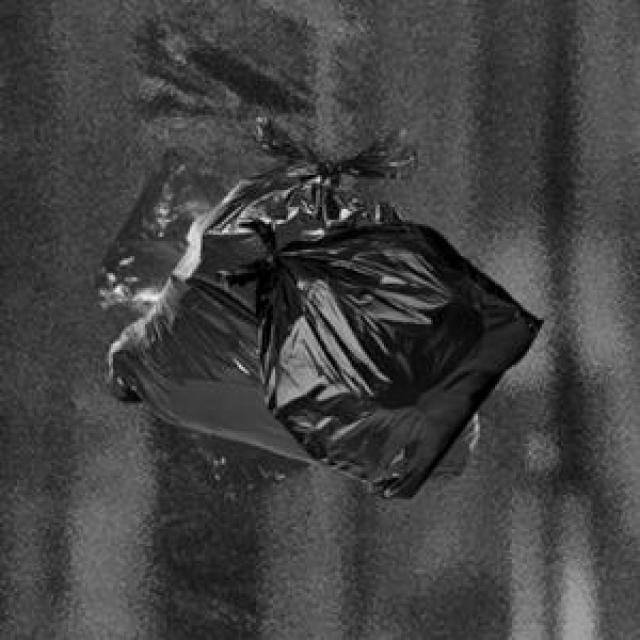miscellaneous trash: (102, 113, 474, 476), (209, 216, 540, 495)
